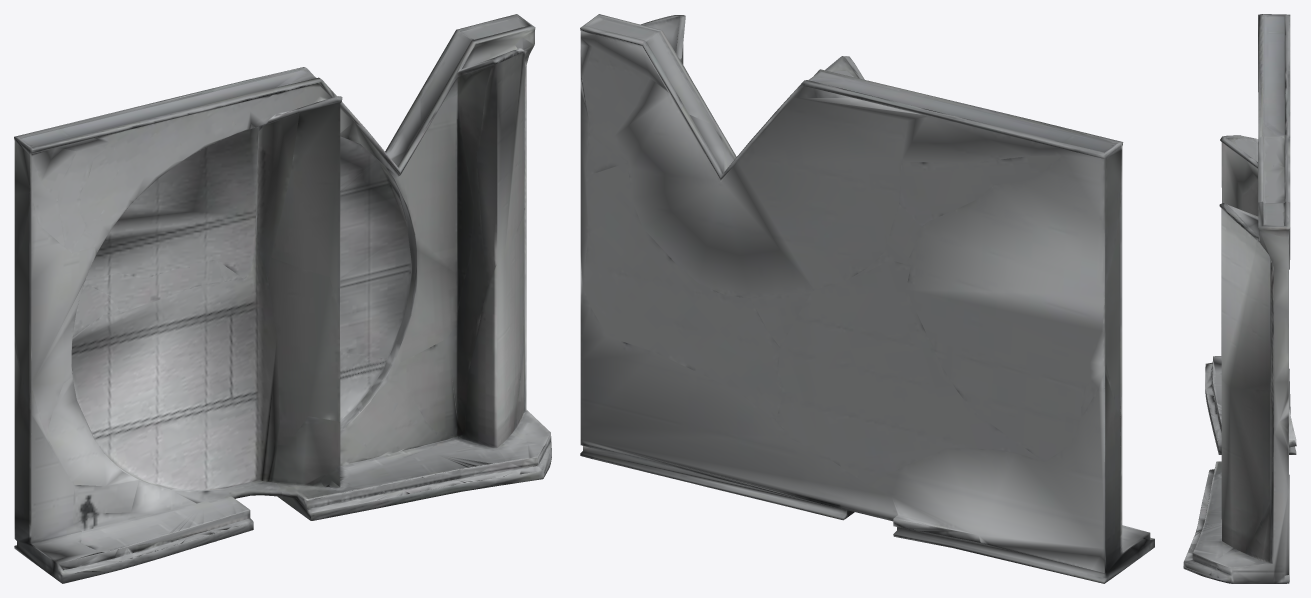
The picture shows the model from 3 angles, left to right: view 1: azimuth 30°, elevation 25°; view 2: azimuth 150°, elevation 25°; view 3: azimuth 270°, elevation 25°; orthographic projection. The views are drawn at different scales.
Parts seen in each view (by area): view 1: node_0; view 2: node_0; view 3: node_0.
Part boxes in pixels (left/top/right/bottom): node_0: left=14, top=14, right=551, bottom=583; node_0: left=580, top=14, right=1154, bottom=583; node_0: left=1183, top=14, right=1296, bottom=583.
Size of the model in its own units: 0.9352 by 0.7316 by 0.2097.
1 material, 1 textured.
